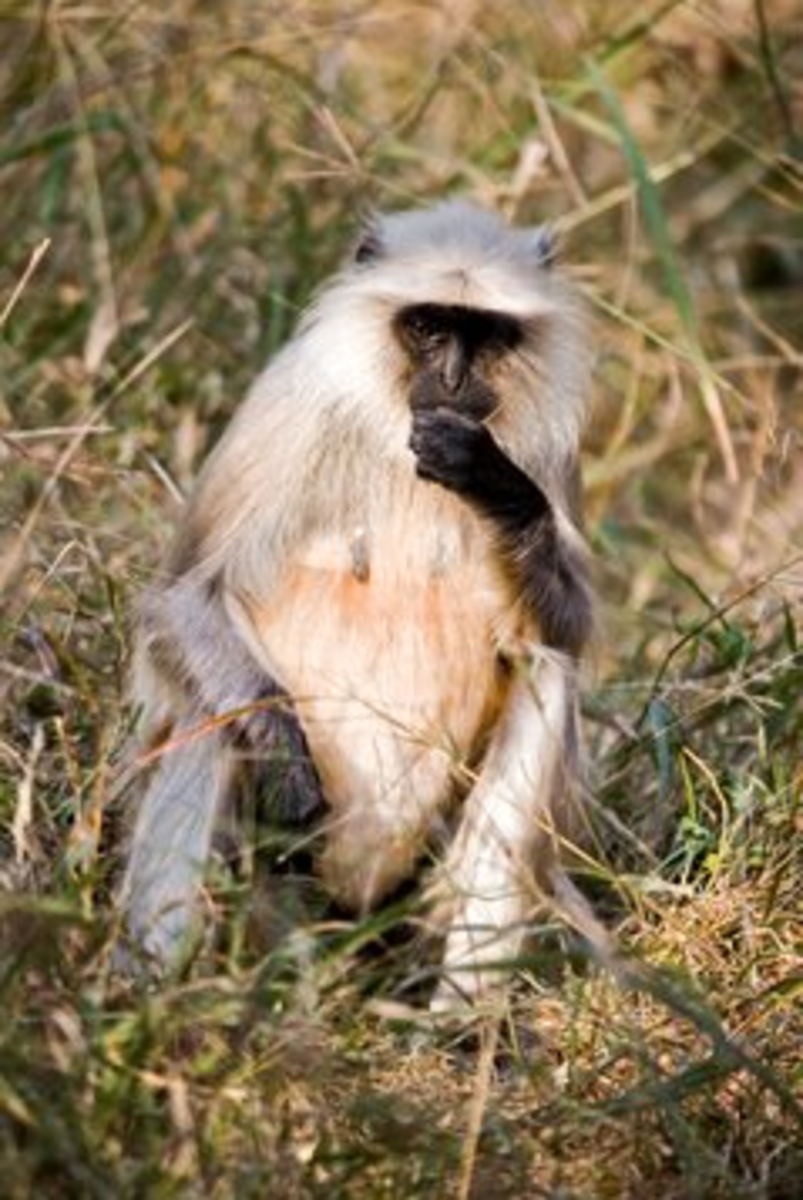monkey: (86, 193, 632, 1066)
